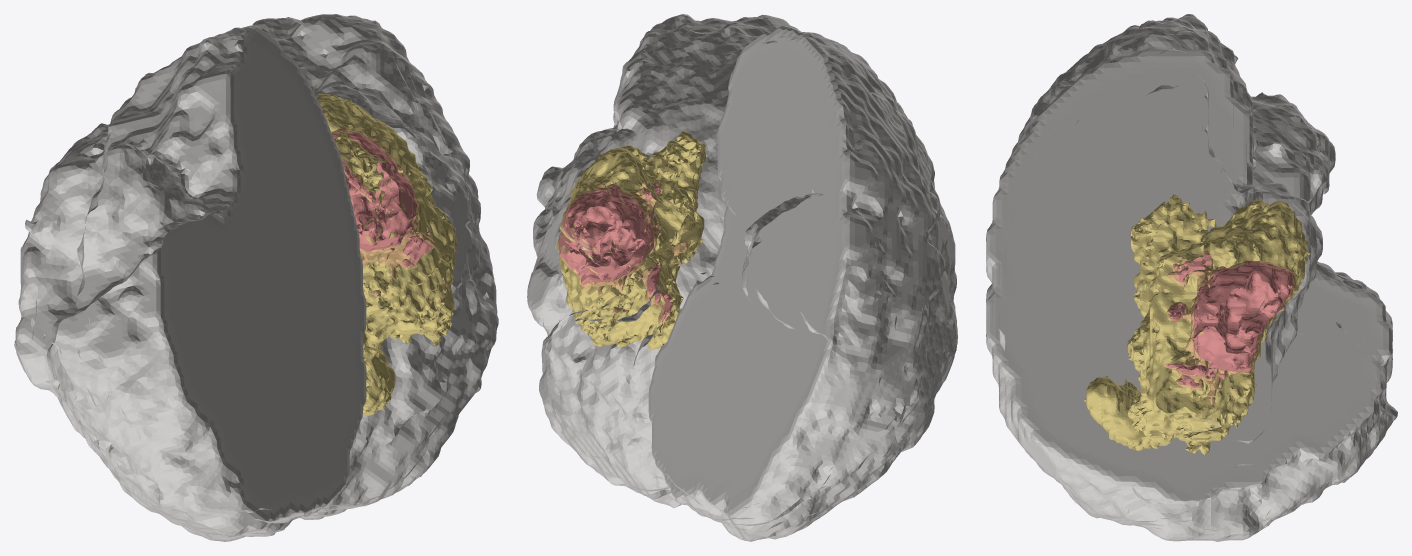
3 renders of one model, left to right at view 1: azimuth 30°, elevation 25°; view 2: azimuth 150°, elevation 25°; view 3: azimuth 270°, elevation 25°, orthographic. The views are drawn at different scales.
Parts seen in each view (by area): view 1: brain_left, brain_right, edema, enhancing, core; view 2: brain_left, brain_right, edema, enhancing, core; view 3: brain_right, edema, brain_left, enhancing, core.
Boxes of the visible parts, x1,y1,x2,y2 form: brain_left: (14, 25, 366, 541); brain_right: (252, 14, 498, 519); edema: (316, 94, 457, 416); enhancing: (332, 132, 432, 266); core: (331, 127, 435, 297); brain_left: (648, 26, 957, 541); brain_right: (527, 14, 797, 507); edema: (557, 131, 706, 349); enhancing: (559, 184, 672, 320); core: (557, 176, 687, 325); brain_right: (986, 49, 1397, 541); edema: (1084, 194, 1310, 455); brain_left: (986, 14, 1392, 392); enhancing: (1166, 252, 1292, 387); core: (1163, 251, 1295, 404).
Bounding box in the file's own units: 138 × 170 × 130.
